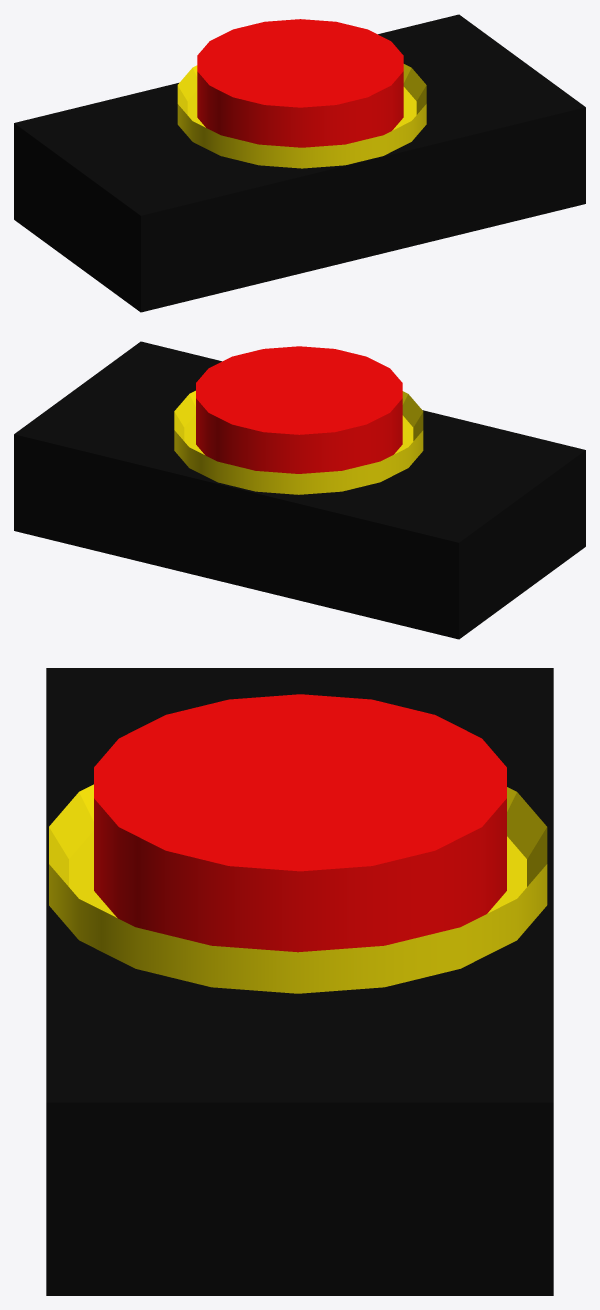
Rendered from Button.fbx.
3 renders of one model, top to bottom at view 1: azimuth 30°, elevation 25°; view 2: azimuth 150°, elevation 25°; view 3: azimuth 270°, elevation 25°, orthographic. The views are drawn at different scales.
Visible parts, largest first — view 1: Box002, Cylinder002, Cylinder001; view 2: Box002, Cylinder002, Cylinder001; view 3: Box002, Cylinder002, Cylinder001.
Part boxes in pixels (x1,y1,x2,y2): Box002: [14, 14, 585, 312]; Cylinder002: [197, 19, 403, 147]; Cylinder001: [177, 64, 426, 168]; Box002: [14, 341, 585, 639]; Cylinder002: [196, 346, 402, 473]; Cylinder001: [174, 390, 423, 494]; Box002: [46, 668, 553, 1295]; Cylinder002: [94, 694, 506, 952]; Cylinder001: [49, 784, 547, 993].
Bounding box in the file's own units: 59.72 × 19 × 29.48.
